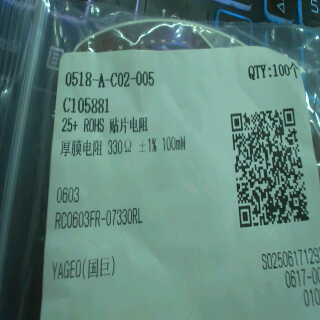330R: (106, 137, 136, 157)
